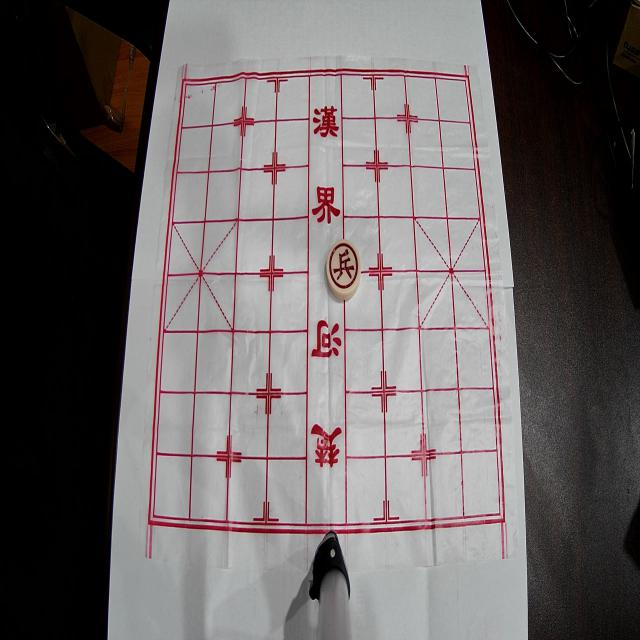red-soldier: (326, 239, 361, 300)
